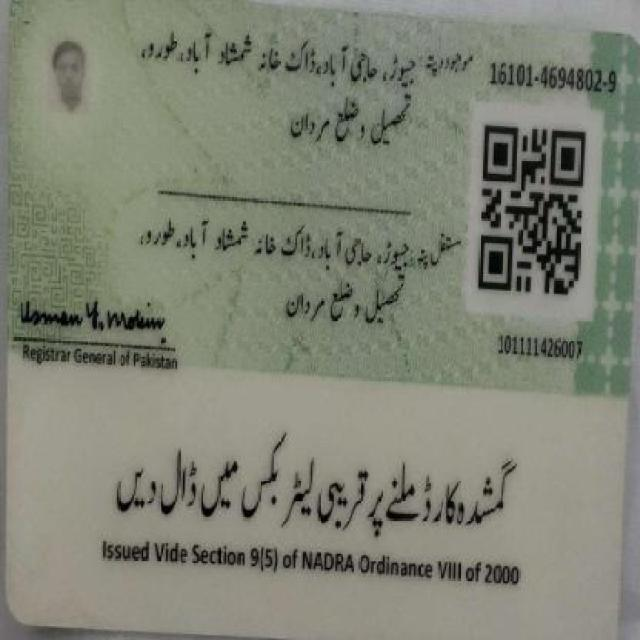Back: (11, 17, 632, 615)
